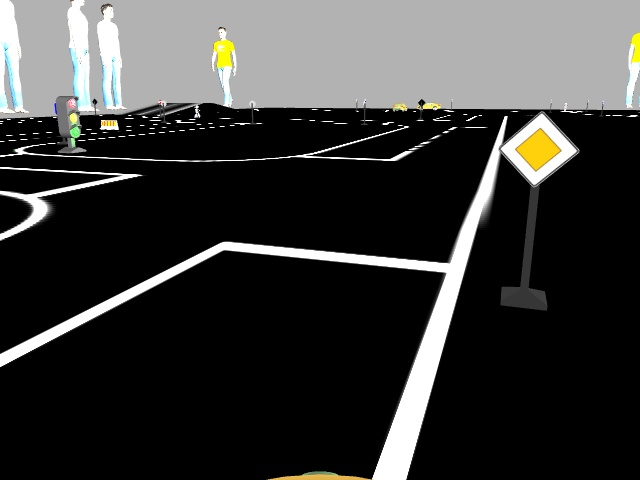ClosedRoadStand: (99, 118, 119, 129)
Priority: (505, 113, 567, 178)
TrafficLight: (57, 96, 78, 136)
